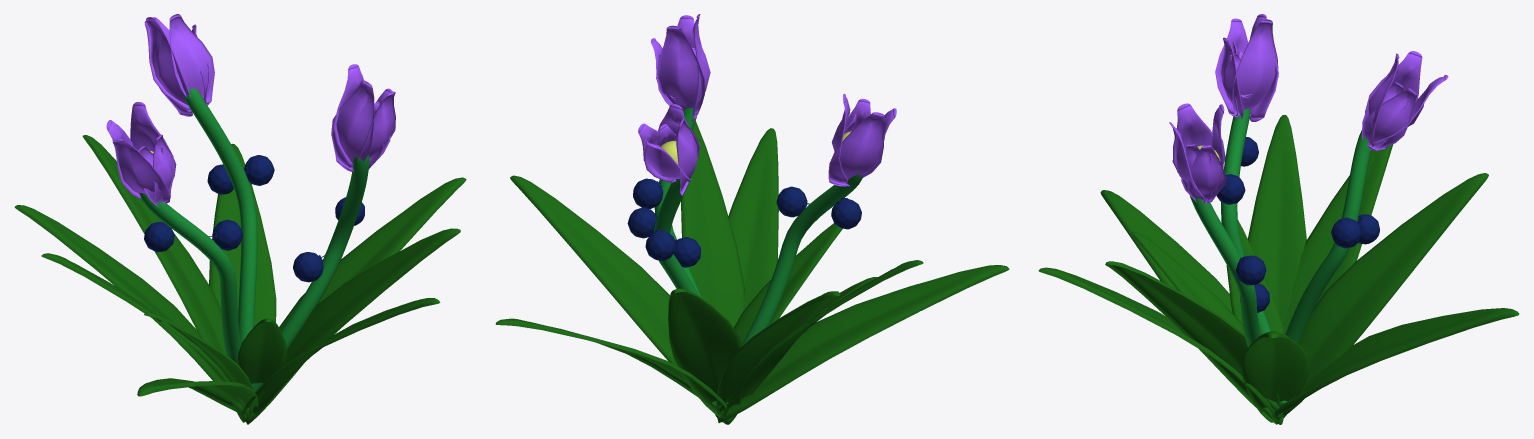
File: Grass0.3.fbx
The picture shows the model from 3 angles, left to right: view 1: azimuth 30°, elevation 25°; view 2: azimuth 150°, elevation 25°; view 3: azimuth 270°, elevation 25°; orthographic projection.
Visible parts, largest first — view 1: Leaf.009, Leaf.004, Branch, Leaf.003, Leaf, Branch.001, Leaf.005, Branch.002, petal.008, petal.004, Leaf.006, petal.001 (+16 smaller); view 2: Leaf.002, Leaf, Leaf.009, Leaf.001, Leaf.004, Leaf.003, Branch.002, petal.007, petal.015, Leaf.006, Leaf.005, Leaf.008 (+14 smaller); view 3: Leaf.004, Leaf.008, Leaf.009, Leaf.005, Leaf.003, Leaf, Leaf.002, Branch, petal.014, Branch.001, Leaf.001, Leaf.006 (+18 smaller).
Part boxes in pixels (box(x1,y1,x2,y2)): Leaf.009: box(253, 228, 460, 414); Leaf.004: box(82, 135, 243, 421); Branch: box(183, 88, 257, 344); Leaf.003: box(14, 205, 245, 416); Leaf: box(246, 177, 466, 424); Branch.001: box(251, 155, 369, 392); Leaf.005: box(209, 143, 276, 421); Branch.002: box(139, 193, 240, 363); petal.008: box(331, 80, 374, 171); petal.004: box(169, 14, 214, 105); Leaf.006: box(237, 318, 286, 383); petal.001: box(146, 17, 192, 116); Leaf.002: box(717, 265, 1009, 422); Leaf: box(510, 175, 723, 414); Leaf.009: box(681, 121, 745, 418); Leaf.001: box(724, 128, 778, 424); Leaf.004: box(668, 288, 743, 420); Leaf.003: box(716, 291, 840, 422); Branch.002: box(712, 174, 862, 407); petal.007: box(656, 25, 704, 114); petal.015: box(828, 112, 885, 186); Leaf.006: box(734, 223, 842, 343); Leaf.005: box(495, 318, 731, 417); Leaf.008: box(723, 260, 923, 424); Leaf.004: box(1283, 173, 1488, 415); Leaf.008: box(1248, 115, 1306, 333); Leaf.009: box(1105, 261, 1280, 424); Leaf.005: box(1272, 308, 1519, 417); Leaf.003: box(1282, 144, 1393, 417); Leaf: box(1241, 331, 1310, 422); Leaf.002: box(1100, 190, 1283, 424); Branch: box(1285, 130, 1371, 343); petal.014: box(1232, 19, 1278, 116); Branch.001: box(1190, 196, 1282, 405); Leaf.001: box(1038, 267, 1275, 418); Leaf.006: box(1131, 231, 1280, 411).
Size of the model in its own units: 1342 by 1124 by 1344.
